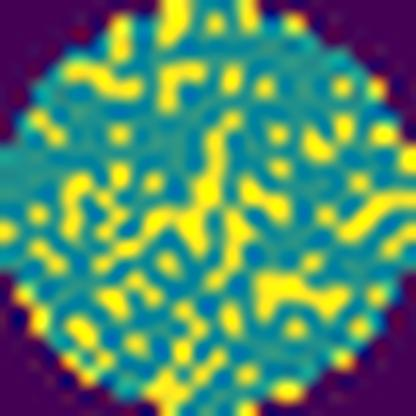Center: (90, 104, 296, 291)
